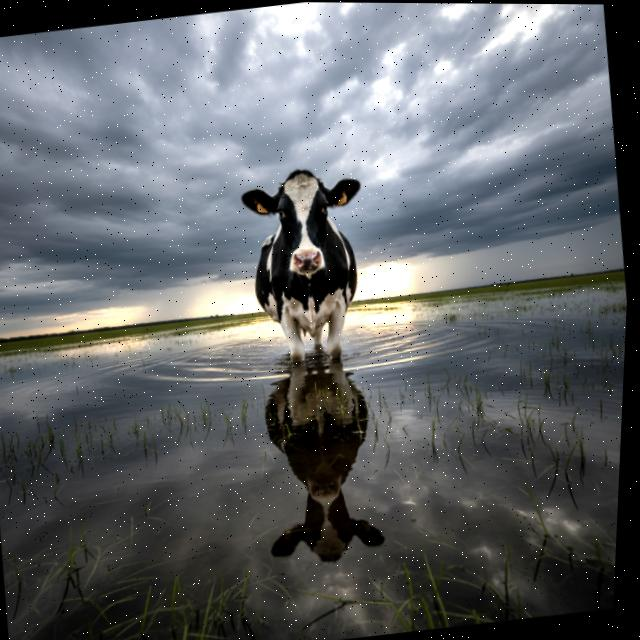cow: (209, 149, 402, 383)
